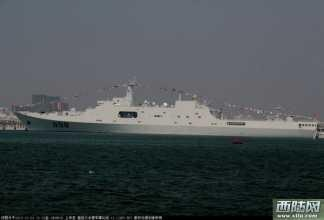warship: (5, 82, 317, 139)
